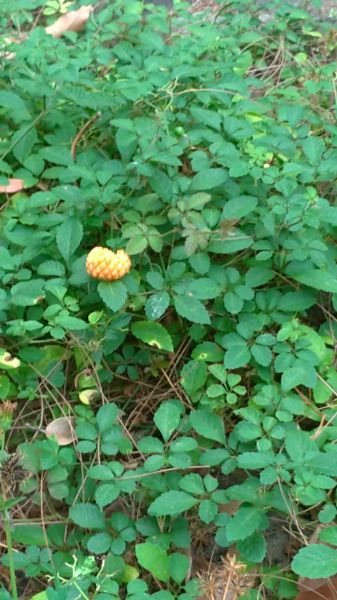eggs: (76, 243, 135, 288)
